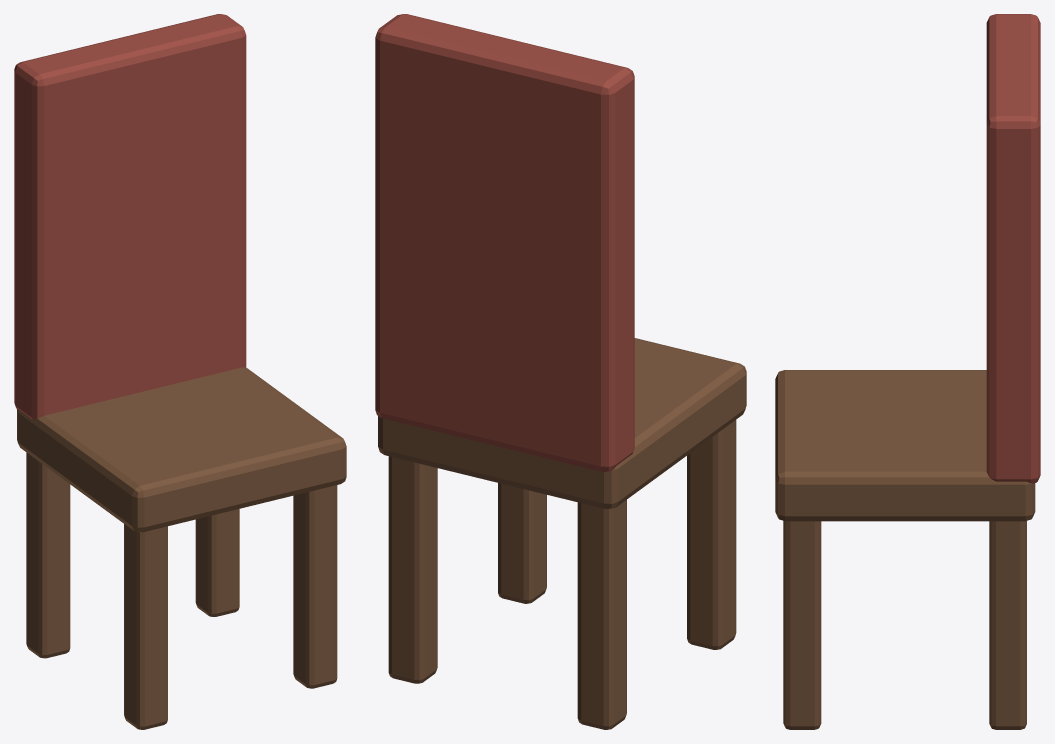
The model's file is DirectorChair_01.fbx.
The picture shows the model from 3 angles, left to right: view 1: azimuth 30°, elevation 25°; view 2: azimuth 150°, elevation 25°; view 3: azimuth 270°, elevation 25°; orthographic projection. The views are drawn at different scales.
Parts seen in each view (by area): view 1: Back.002, Seat.002, Leg.010, Leg.008, Leg.009, Leg.011; view 2: Back.002, Seat.002, Leg.009, Leg.011, Leg.008, Leg.010; view 3: Seat.002, Back.002, Leg.010, Leg.011.
Part boxes in pixels (x1,y1,x2,y2): Back.002: (14,14,246,419); Seat.002: (17,367,346,532); Leg.010: (293,485,337,688); Leg.008: (124,524,167,729); Leg.009: (26,452,70,658); Leg.011: (195,509,239,616); Back.002: (375,14,634,471); Seat.002: (378,338,746,508); Leg.009: (577,500,626,729); Leg.011: (388,456,437,683); Leg.008: (687,420,736,649); Leg.010: (498,483,546,603); Seat.002: (775,370,1035,521); Back.002: (986,14,1040,483); Leg.010: (783,521,821,729); Leg.011: (989,521,1026,729).
Size of the model in its own units: 0.48 by 1.26 by 0.49.
